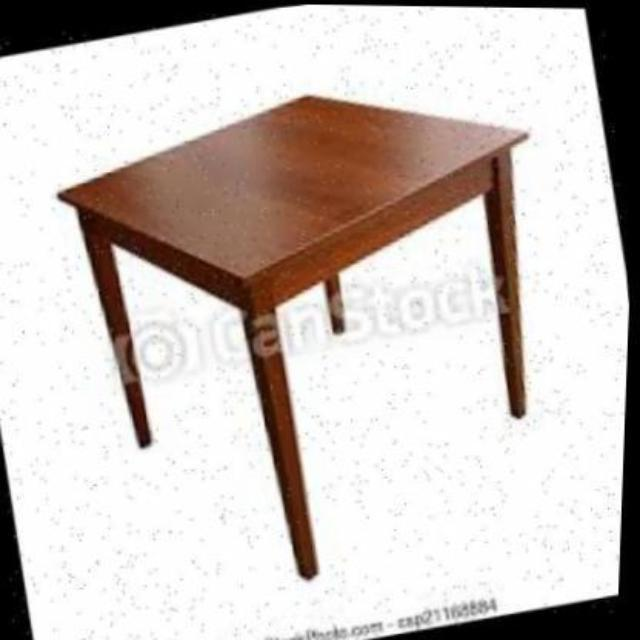table: (69, 97, 529, 578)
